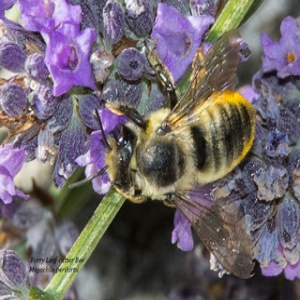bee: (91, 31, 262, 282)
